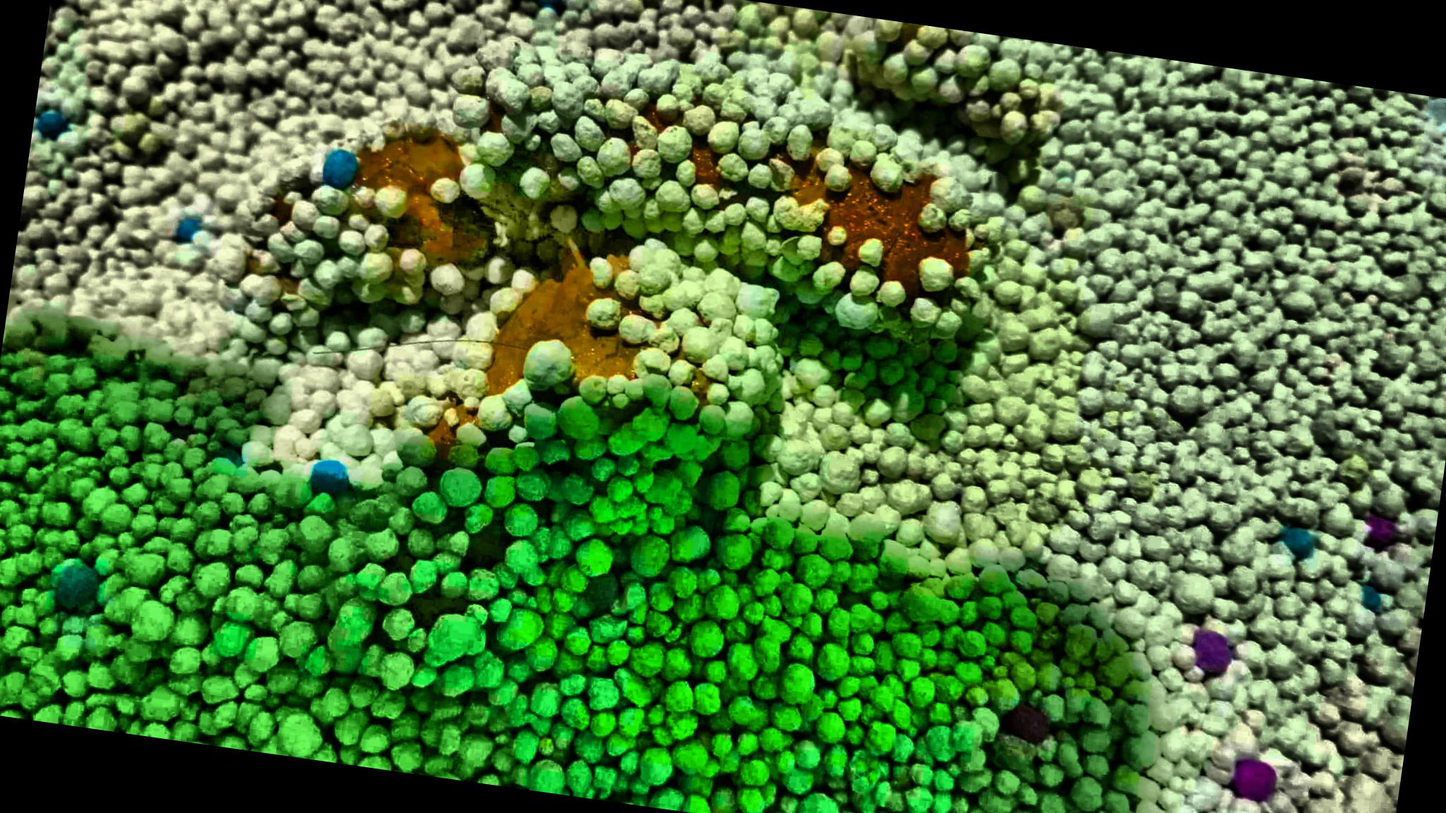poop: (213, 32, 999, 695)
